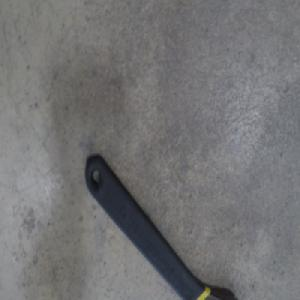AdjustableWrench: (85, 159, 240, 300)
